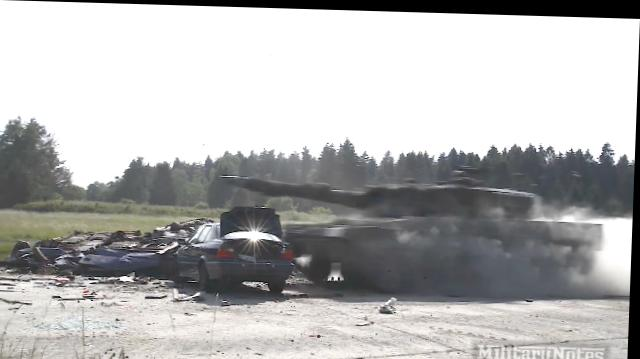tank: (308, 177, 601, 289)
